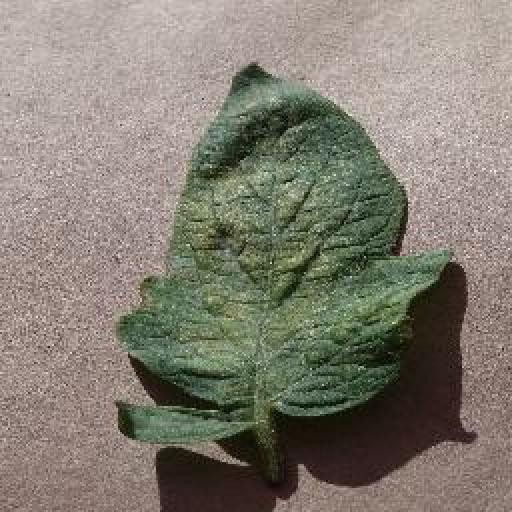disease_tomato: (112, 58, 453, 418)
